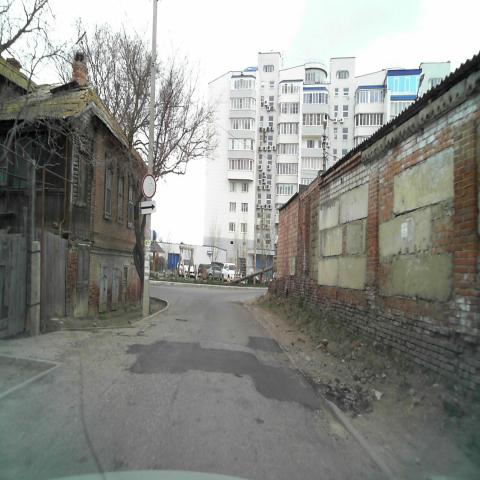3_2: (141, 174, 156, 198)
8_3_1: (141, 200, 156, 214)
